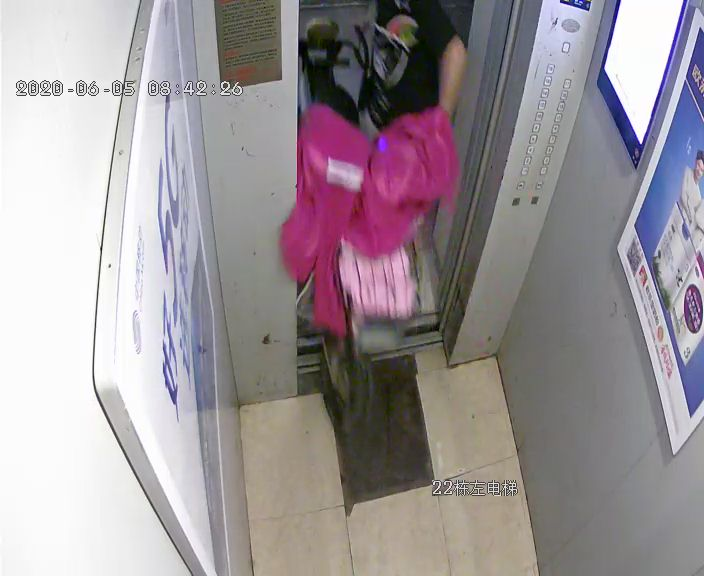Electric-bicycle: (298, 15, 445, 432)
